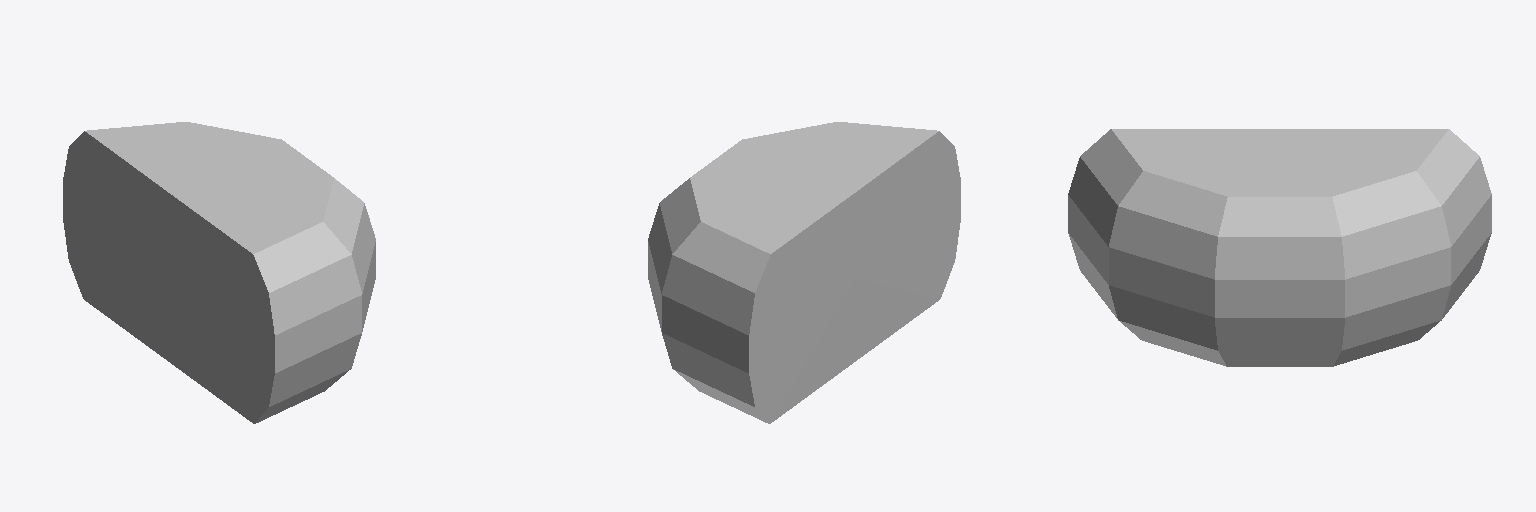
File: pecorino_mezzo.obj
The picture shows the model from 3 angles: view 1: azimuth 30°, elevation 25°; view 2: azimuth 150°, elevation 25°; view 3: azimuth 270°, elevation 25°; orthographic projection.
Parts seen in each view (by area): view 1: obj0; view 2: obj0; view 3: obj0.
Part boxes in pixels (x1,y1,x2,y2): obj0: (63,122,375,423); obj0: (648,122,960,423); obj0: (1068,129,1491,366).
Bounding box in the file's own units: 1.25 × 1.16 × 2.63.